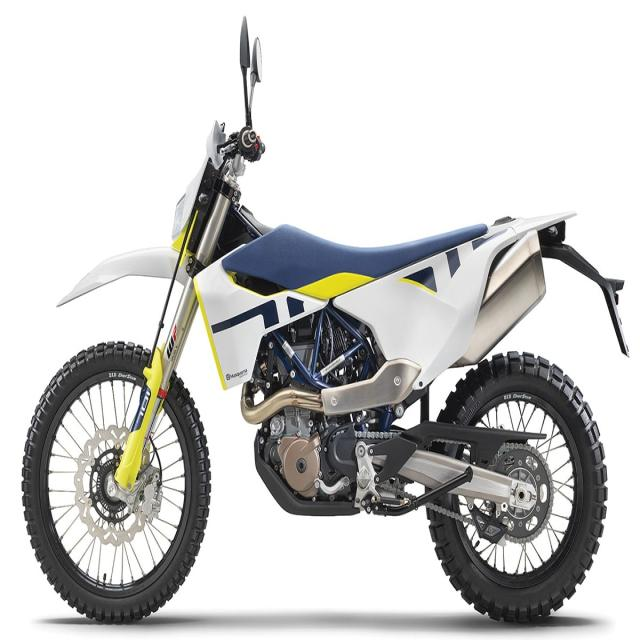Motorcycle: (21, 102, 629, 623)
